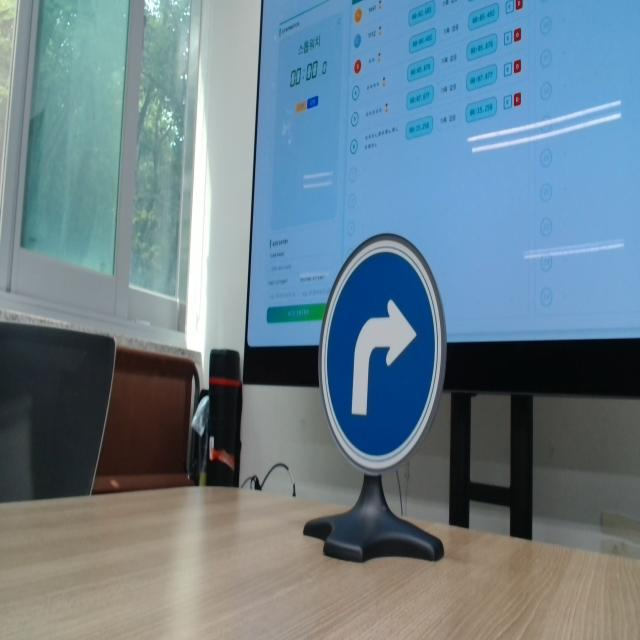right_dierection: (309, 209, 453, 488)
